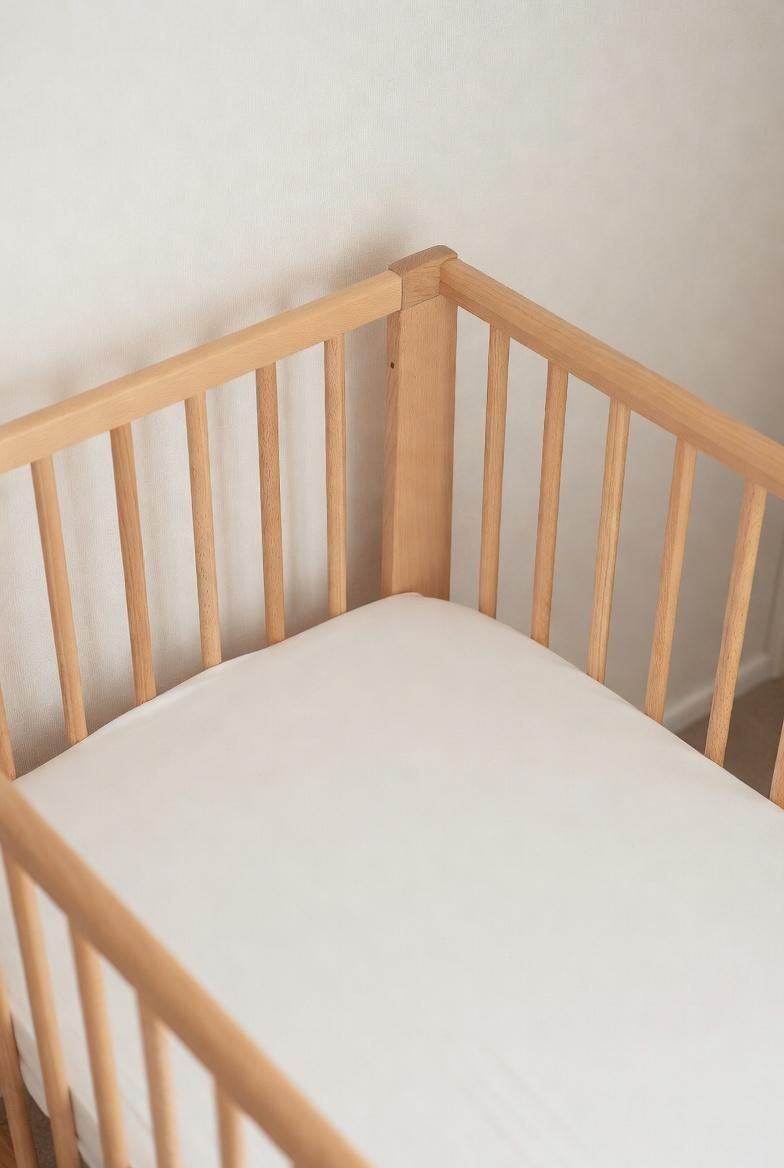crib: (0, 247, 784, 1168)
